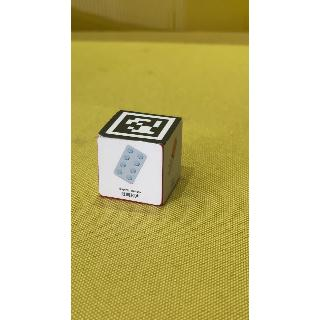Tablet: (98, 136, 167, 208)
